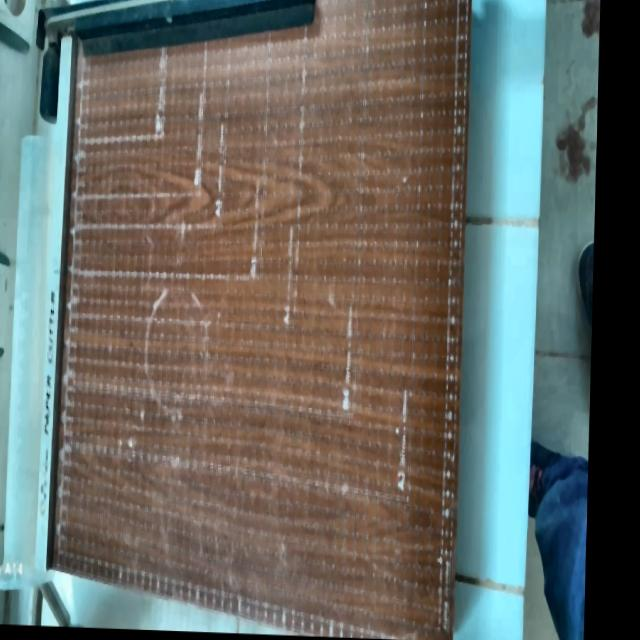TLC Cutter: (9, 0, 513, 622)
